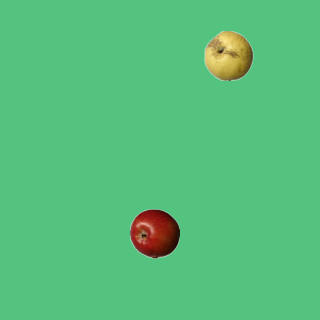Apple Braeburn: (129, 208, 179, 258)
Apple Golden 1: (203, 30, 253, 80)
